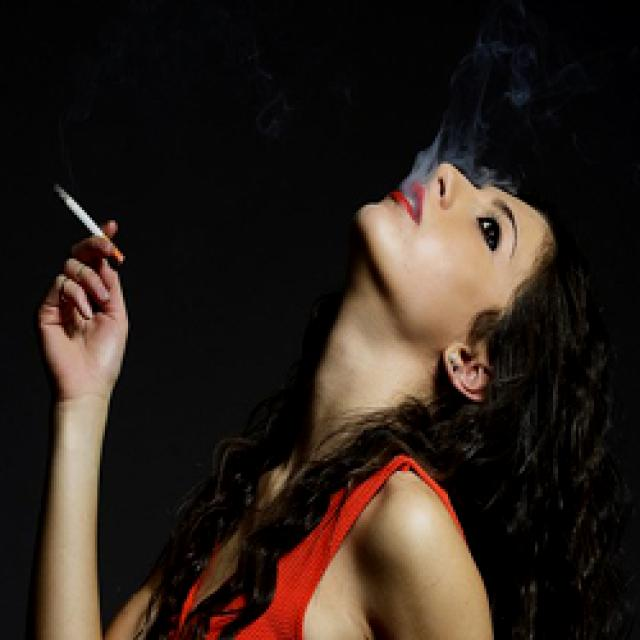Smooking: (54, 172, 128, 258)
